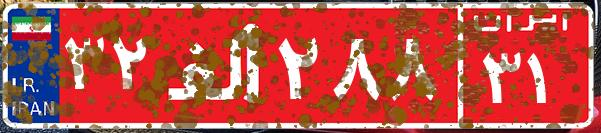1: (525, 38, 570, 115)
2: (273, 28, 330, 110), (110, 28, 158, 105)
3: (57, 26, 110, 107), (475, 38, 525, 113)
8: (385, 28, 445, 110), (330, 28, 385, 110)
الف: (158, 15, 273, 115)
